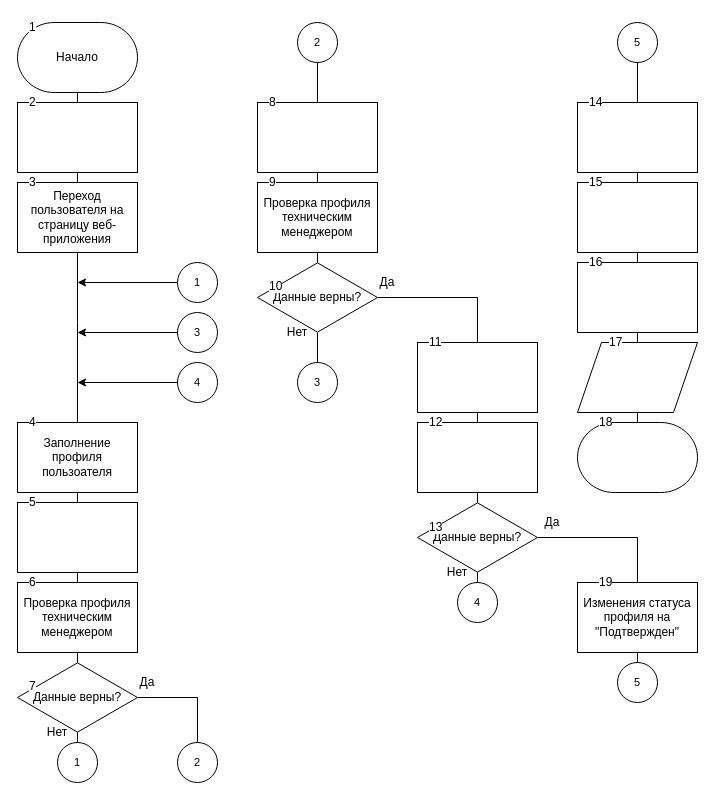
The diagram is 715 pixels wide and 800 high, and some of its shapes have lost their labels. The box of each missing label's shape, as (x1, y1, x2, y2) in pixels:
Генерация готового файла с резюме: (576, 262, 698, 332)
Инициализация веб-приложения: (16, 102, 138, 172)
Конец: (576, 422, 698, 492)
Отображение созданного файла с резюме: (576, 342, 698, 412)
Отправка профиля на проверку HR менеджеру: (256, 102, 378, 172)
Отправка профиля на проверку менеджеру по продажам: (416, 342, 538, 412)
Отправка профиля на проверку техническому менеджеру: (16, 502, 138, 572)
Подстановка данных в заранее готовый шаблон: (576, 182, 698, 252)
Проверка профиля менеджером по продажам: (416, 422, 538, 492)
Сохранение данных профиля в БД: (576, 102, 698, 172)
